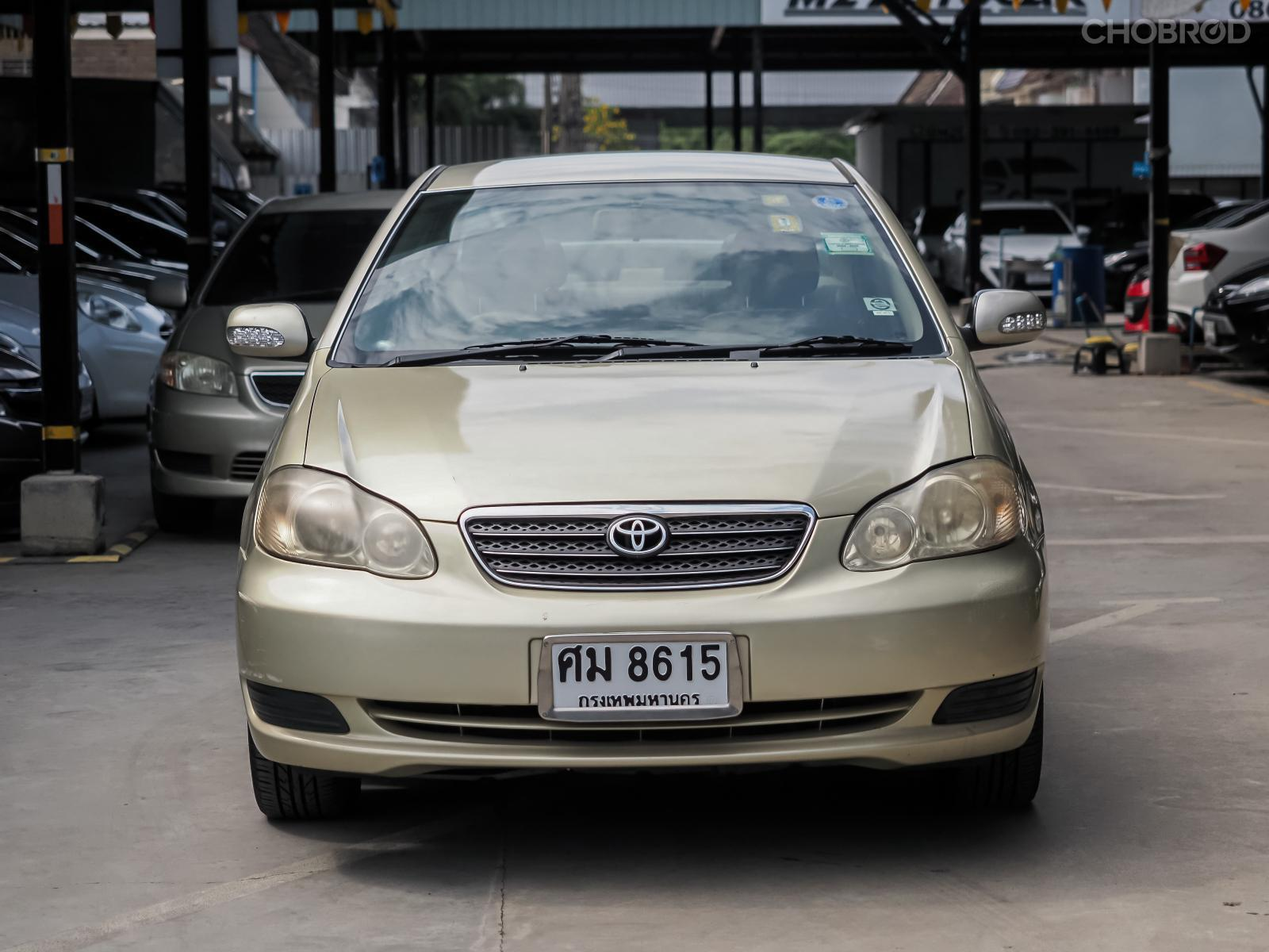license-plate: (538, 629, 745, 722)
